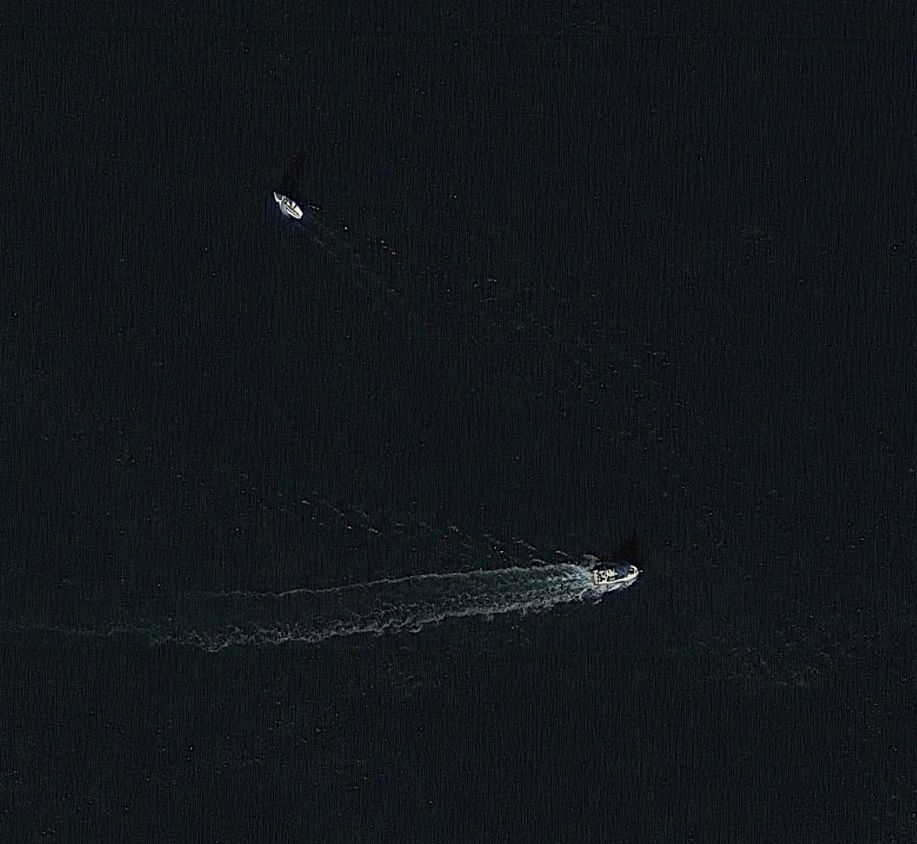boat: (588, 552, 651, 596), (265, 186, 313, 229)
